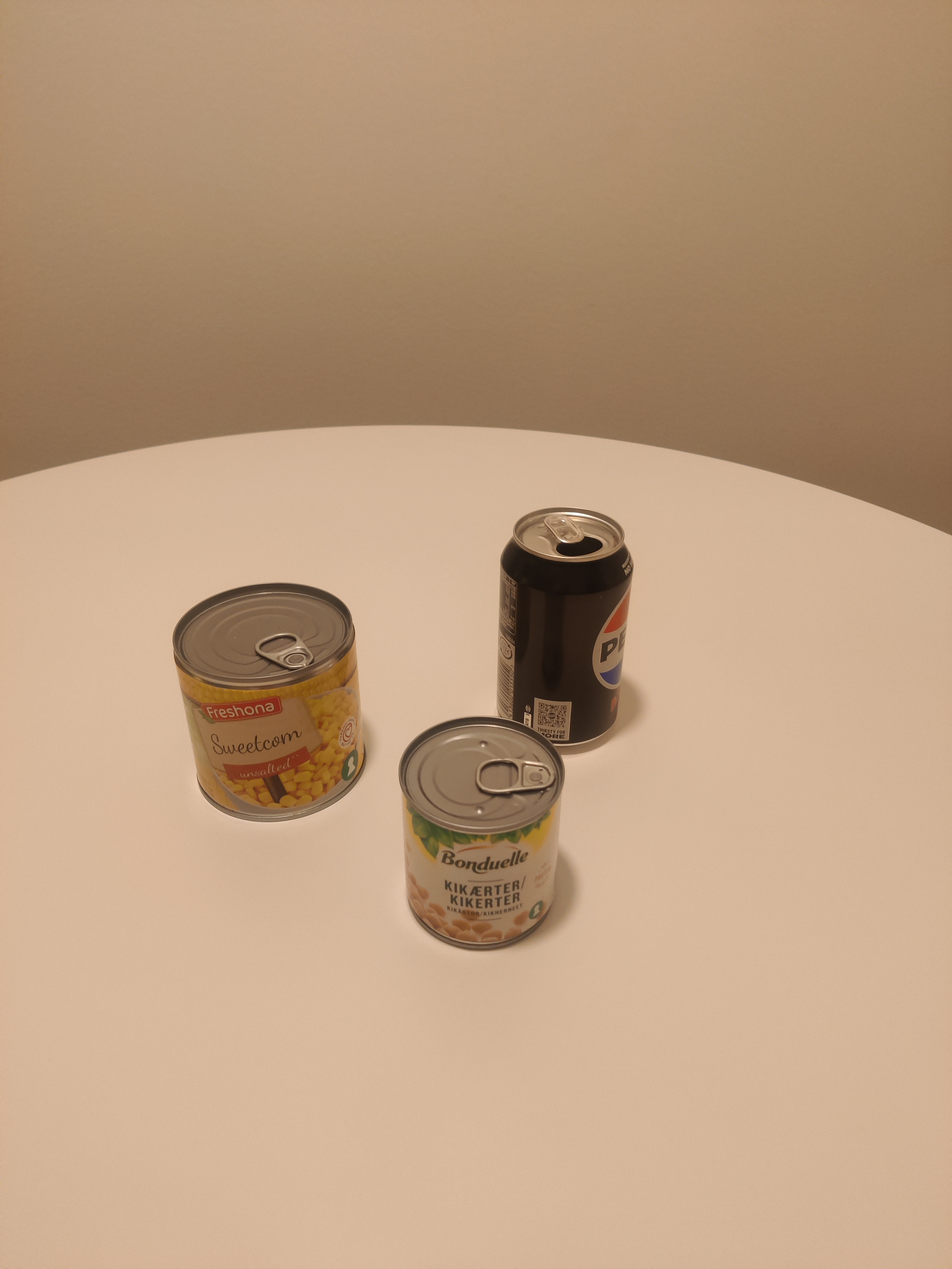Konservburk: (170, 581, 366, 831), (394, 714, 564, 951)
Pantburk: (493, 507, 634, 751)
